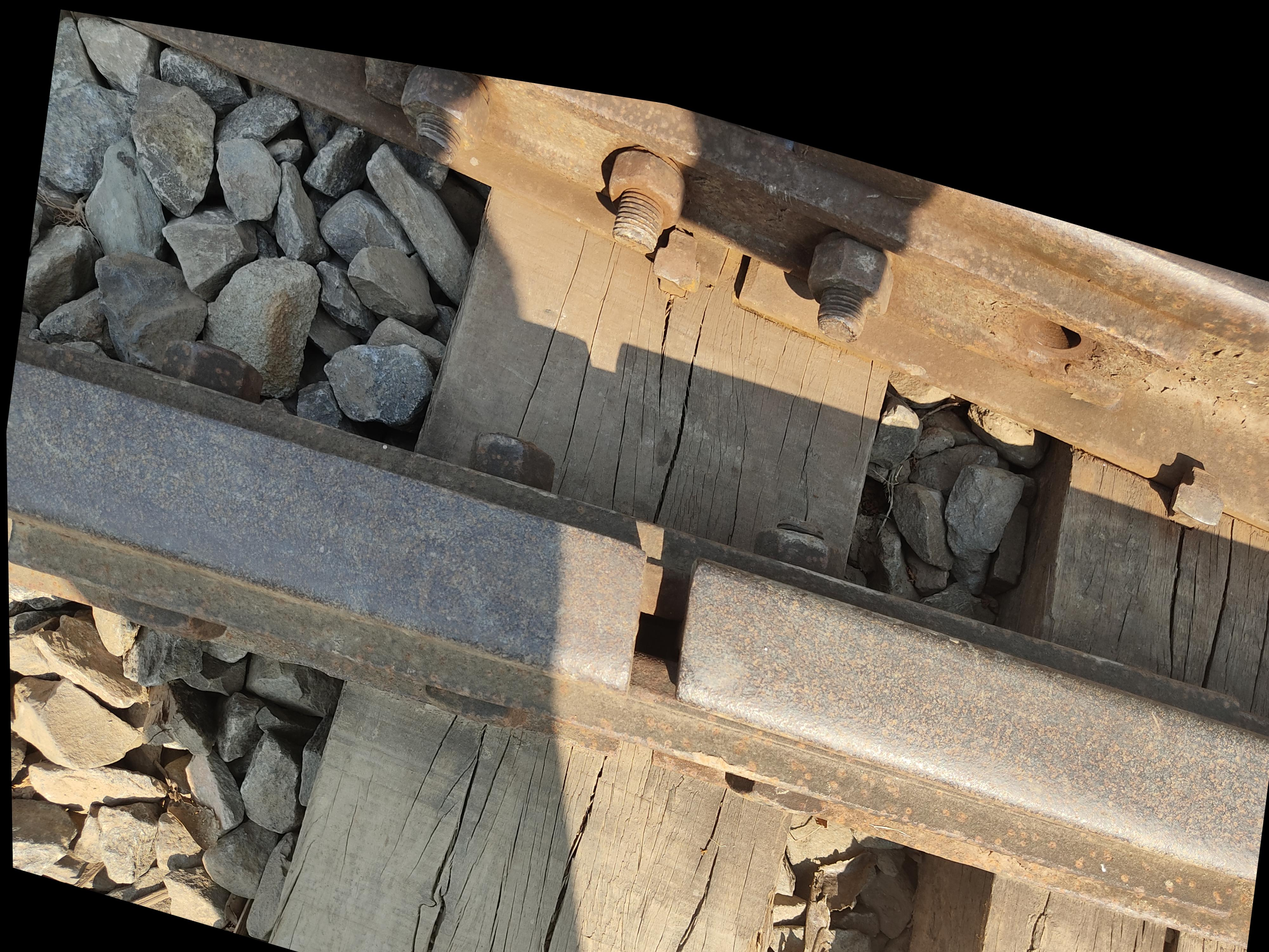person: (607, 417, 848, 668)
